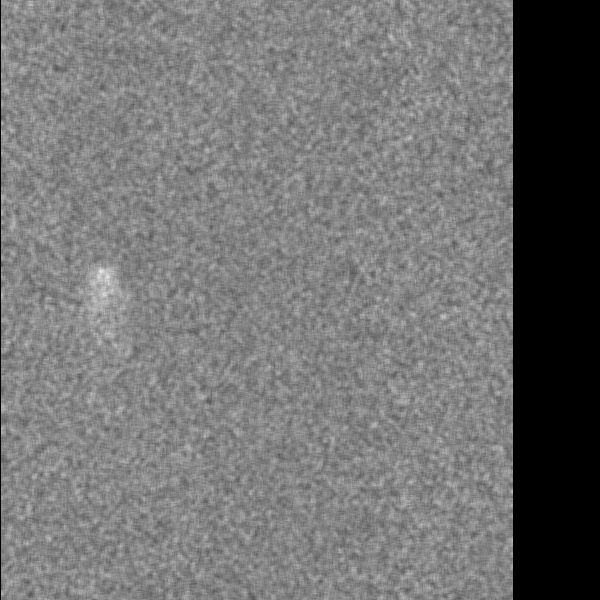spark: (88, 261, 118, 332)
